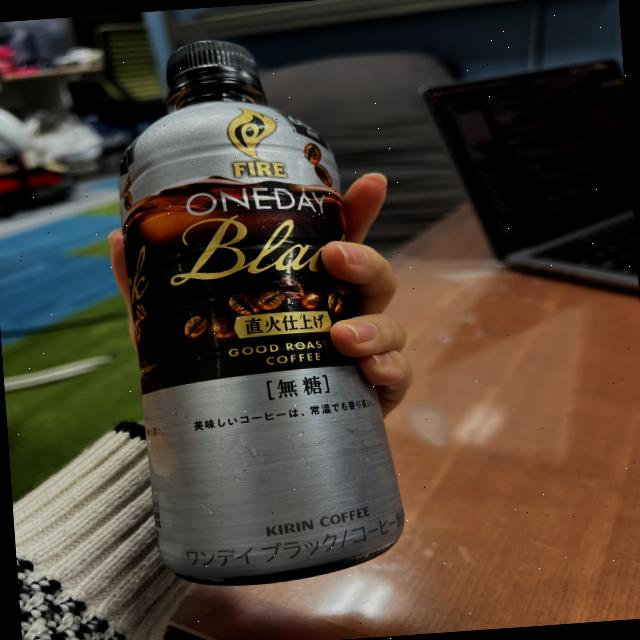coffee-black: (100, 17, 396, 590)
